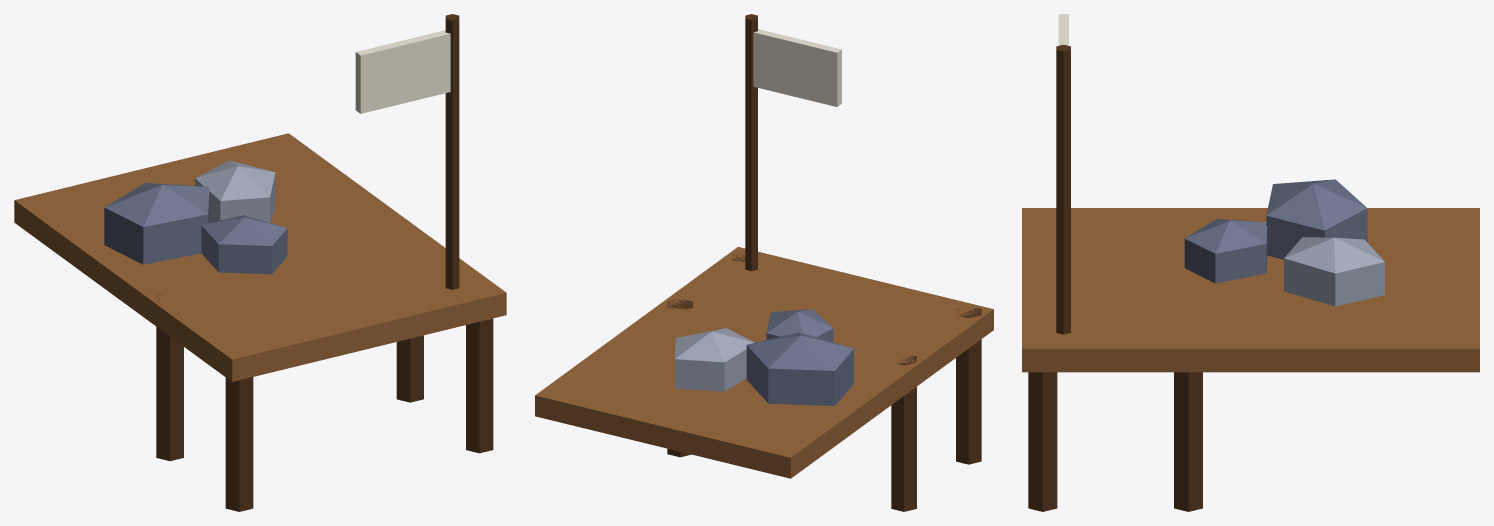
Rendered from ore.obj.
The picture shows the model from 3 angles, left to right: view 1: azimuth 30°, elevation 25°; view 2: azimuth 150°, elevation 25°; view 3: azimuth 270°, elevation 25°; orthographic projection. The views are drawn at different scales.
Visible parts, largest first — view 1: ore; view 2: ore; view 3: ore.
Part boxes in pixels (<box>): ore: <box>14,14,506,511</box>; ore: <box>535,14,993,511</box>; ore: <box>1022,14,1479,511</box>.
Bounding box in the file's own units: 0.32 × 0.475 × 0.44.
